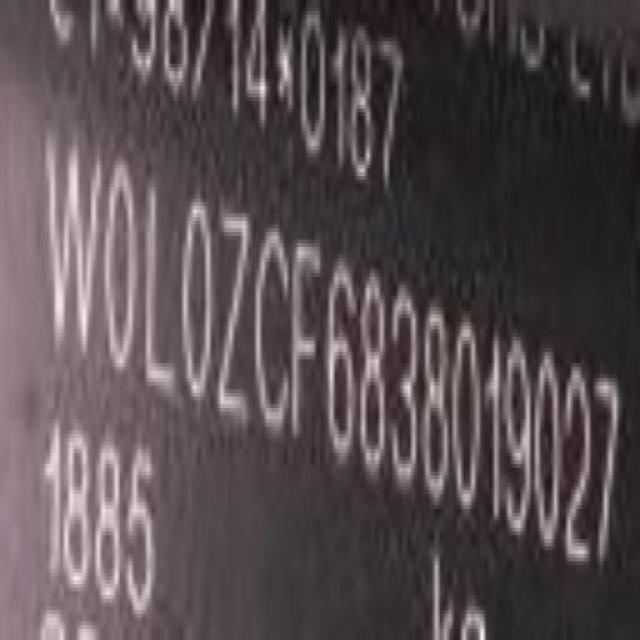0: (104, 154, 139, 384), (182, 190, 216, 418), (534, 338, 564, 560), (454, 309, 483, 524)
1: (485, 321, 502, 535)
2: (563, 357, 592, 572)
3: (394, 286, 422, 498)
6: (326, 255, 357, 477)
7: (596, 361, 625, 579)
8: (360, 269, 389, 484), (422, 296, 450, 512)
9: (503, 325, 533, 546)
C: (255, 218, 291, 444)
F: (294, 232, 324, 458)
L: (143, 180, 177, 405)
W: (42, 136, 102, 374)
Z: (218, 202, 252, 437)
